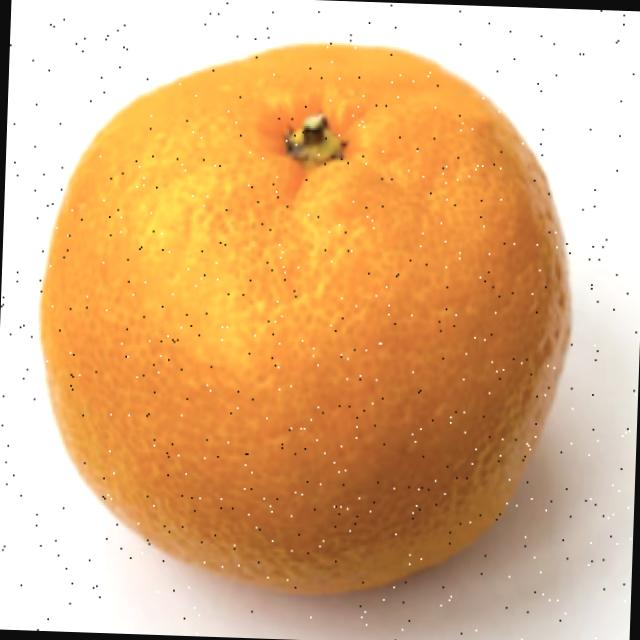orange: (28, 36, 595, 607)
